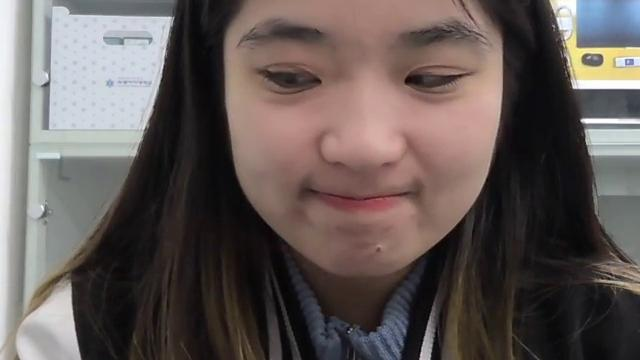eye: (410, 74, 422, 85), (283, 73, 296, 83)
iris: (265, 69, 317, 88), (405, 74, 461, 86)
